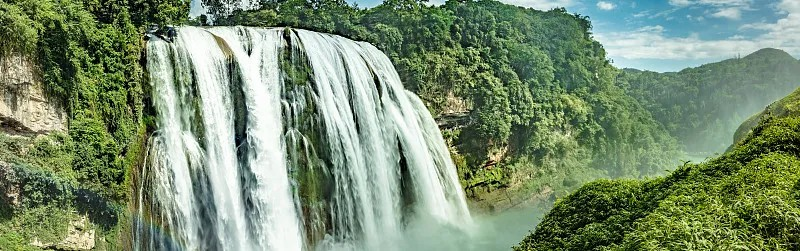Huangguoshu: (142, 23, 473, 251)
